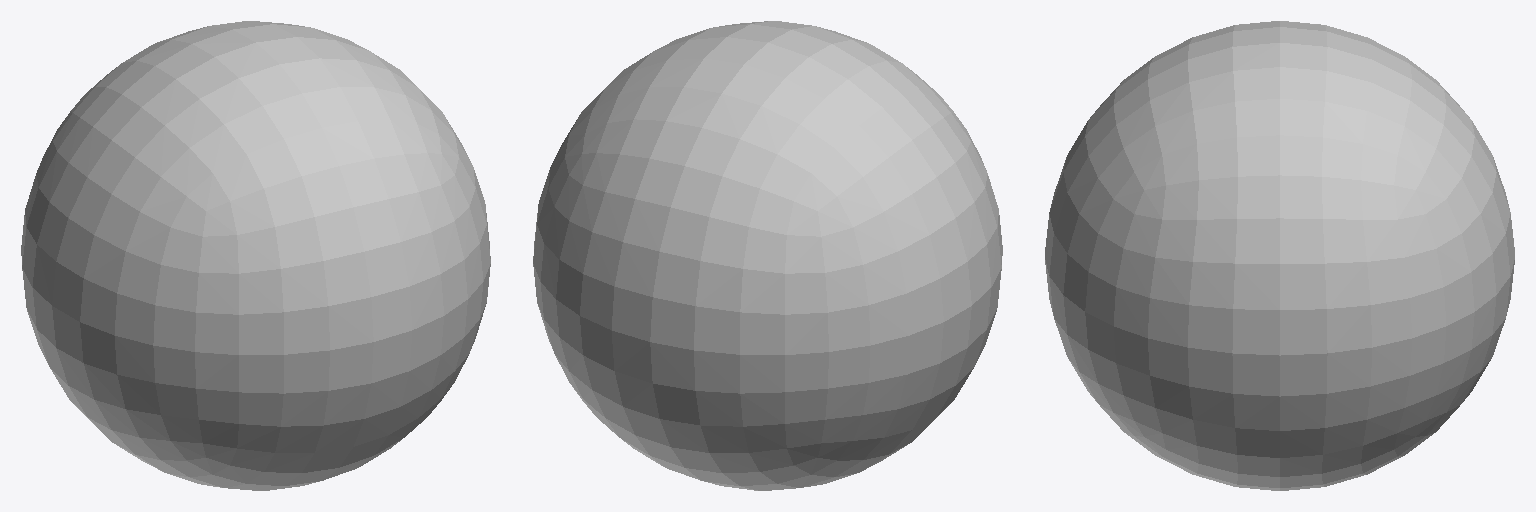
File: ball.obj
The picture shows the model from 3 angles: view 1: azimuth 30°, elevation 25°; view 2: azimuth 150°, elevation 25°; view 3: azimuth 270°, elevation 25°; orthographic projection.
Visible parts, largest first — view 1: golf_ball; view 2: golf_ball; view 3: golf_ball.
Part boxes in pixels (x1,y1,x2,y2): golf_ball: (21,21,490,490); golf_ball: (533,21,1002,490); golf_ball: (1045,21,1514,490).
Size of the model in its own units: 0.1169 by 0.1169 by 0.1169.